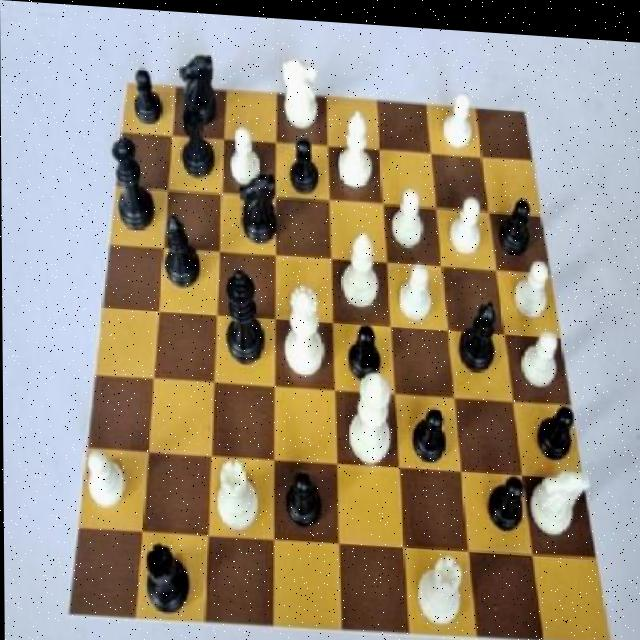bishop: (450, 290, 507, 383), (156, 206, 206, 291)
black-bishop: (218, 261, 270, 370)
black-king: (235, 165, 281, 253), (175, 46, 219, 133)
black-knight: (279, 450, 331, 538), (408, 387, 455, 471), (529, 394, 581, 468), (486, 453, 529, 542), (492, 181, 538, 262), (342, 310, 385, 390), (124, 57, 165, 136), (285, 130, 321, 206)
black-pawn: (108, 126, 154, 242)
black-queen: (136, 536, 191, 618), (174, 101, 222, 188)
black-rook: (331, 100, 379, 195), (335, 225, 382, 311)
white-bishop: (344, 364, 395, 471)
white-king: (524, 453, 592, 551), (274, 46, 322, 130)
white-knight: (80, 435, 131, 522), (518, 310, 570, 394), (442, 179, 489, 265), (385, 171, 429, 257), (507, 246, 558, 320), (433, 82, 478, 157), (225, 113, 266, 195), (391, 258, 436, 327)
white-pawn: (277, 281, 335, 382)
white-queen: (210, 449, 262, 537), (410, 540, 465, 620)
